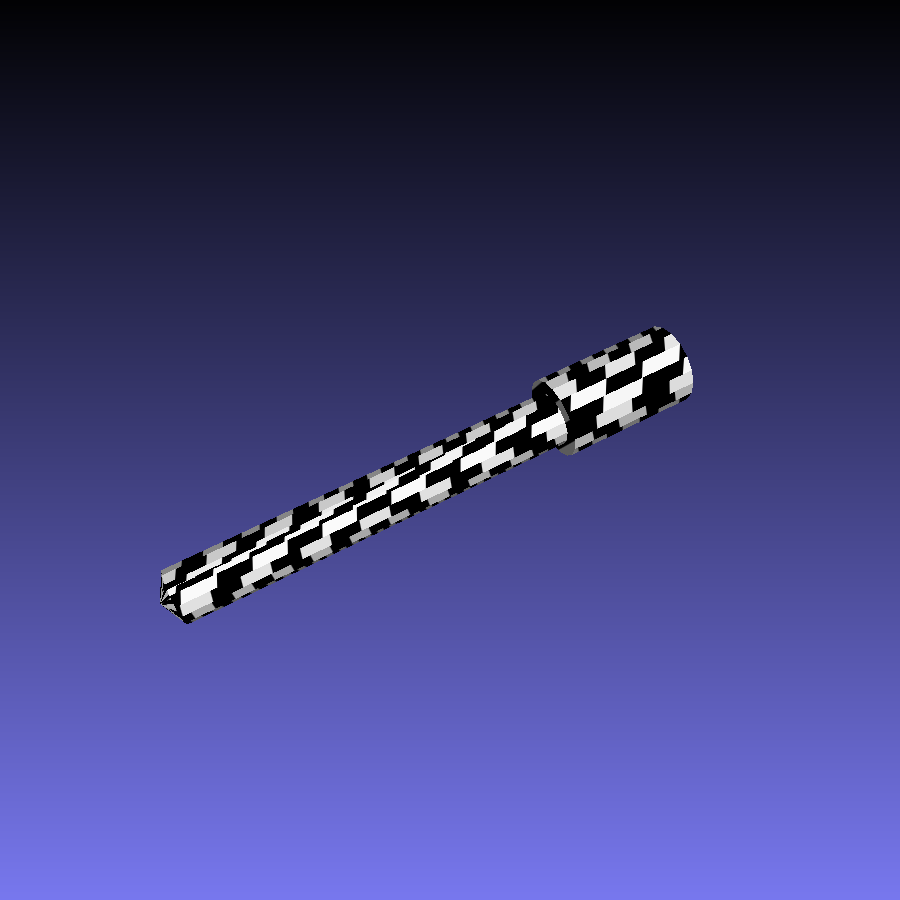cargo_g: (160, 327, 693, 624)
